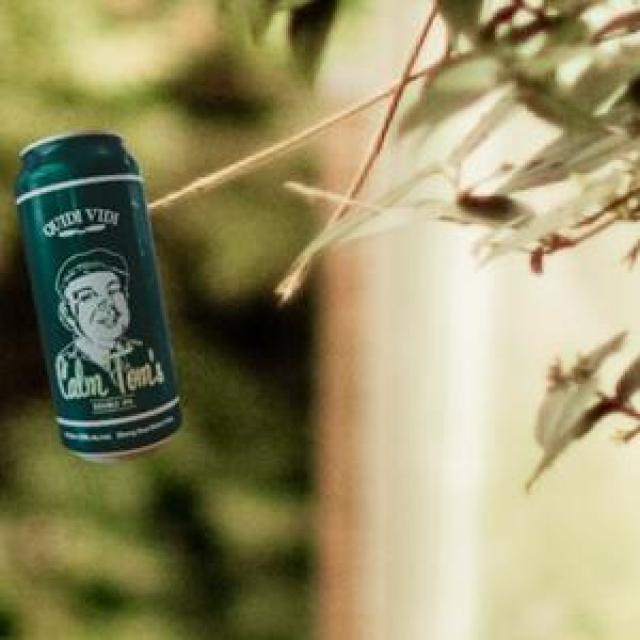logam: (12, 129, 178, 458)
